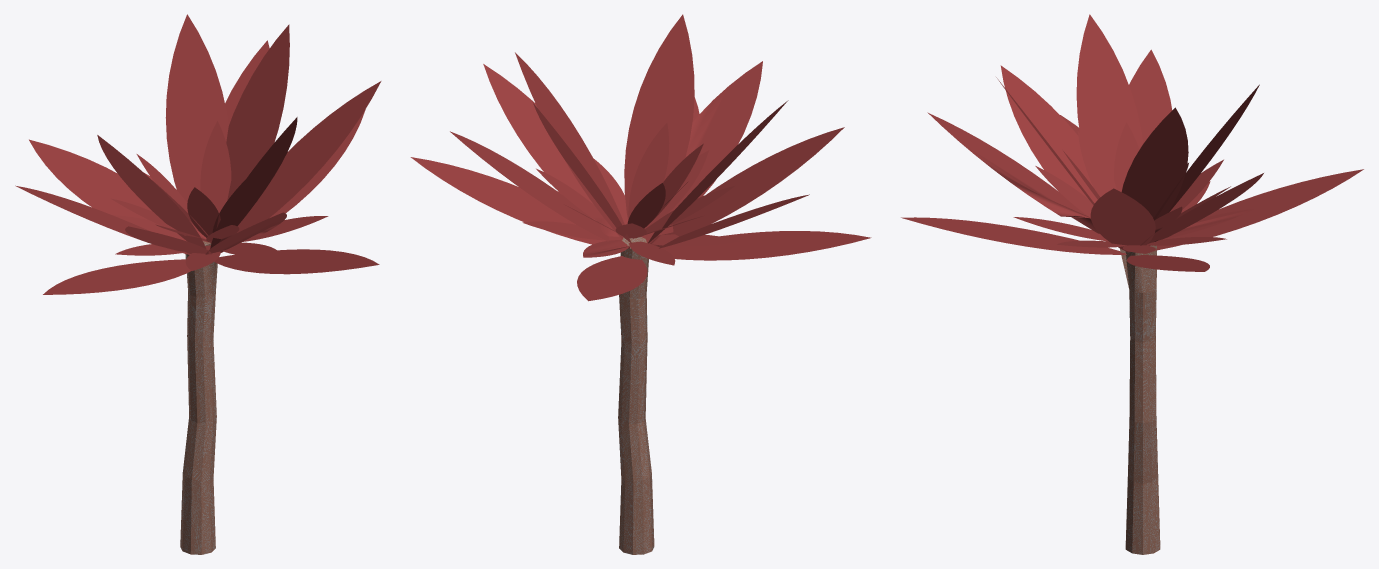
The model's file is Bush_Grassland_03.fbx.
3 views of the same model, side by side, from view 1: azimuth 30°, elevation 25°; view 2: azimuth 150°, elevation 25°; view 3: azimuth 270°, elevation 25° (orthographic). The views are drawn at different scales.
Parts seen in each view (by area): view 1: Model; view 2: Model; view 3: Model.
Boxes of the visible parts, bbox=[...] form: Model: bbox=[15, 14, 381, 554]; Model: bbox=[410, 14, 871, 554]; Model: bbox=[901, 14, 1363, 554].
Bounding box in the file's own units: 149 × 176 × 150.
